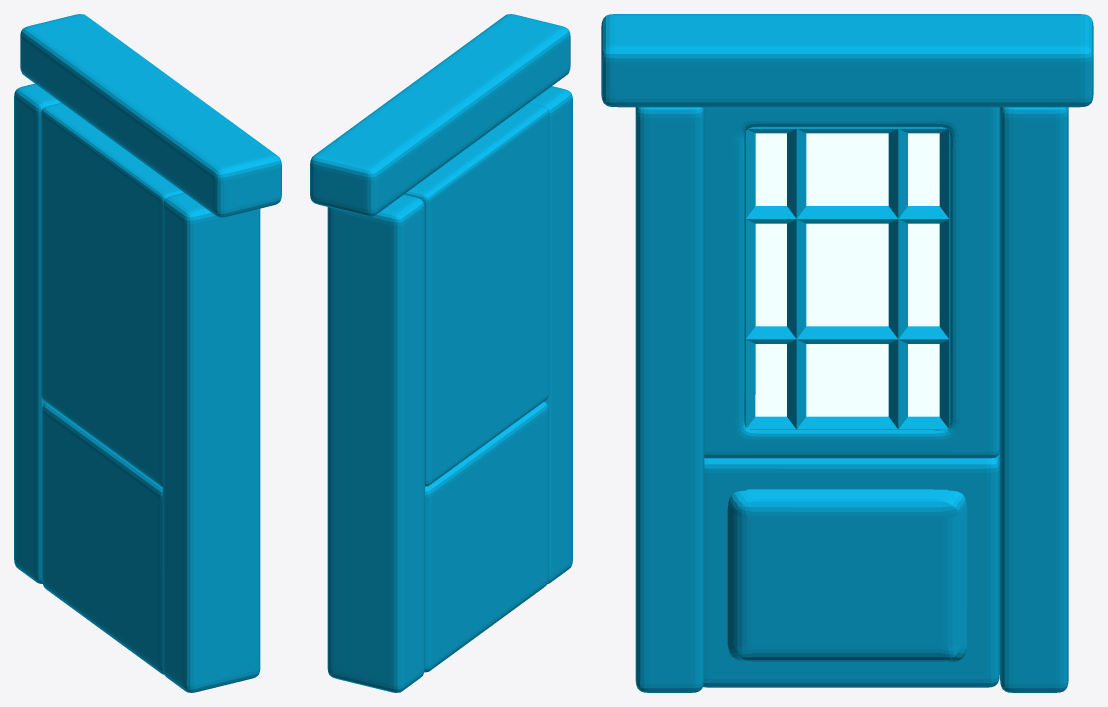
The model's file is SM_Brick_Door_01.fbx.
3 views of the same model, side by side, from view 1: azimuth 30°, elevation 25°; view 2: azimuth 150°, elevation 25°; view 3: azimuth 270°, elevation 25° (orthographic). The views are drawn at different scales.
Visible parts, largest first — view 1: SM_Brick_Door_01; view 2: SM_Brick_Door_01; view 3: SM_Brick_Door_01.
Part boxes in pixels (x1,y1,x2,y2): SM_Brick_Door_01: (14, 14, 281, 692); SM_Brick_Door_01: (310, 14, 572, 692); SM_Brick_Door_01: (601, 14, 1093, 692).
Size of the model in its own units: 0.2395 by 1.46 by 1.
